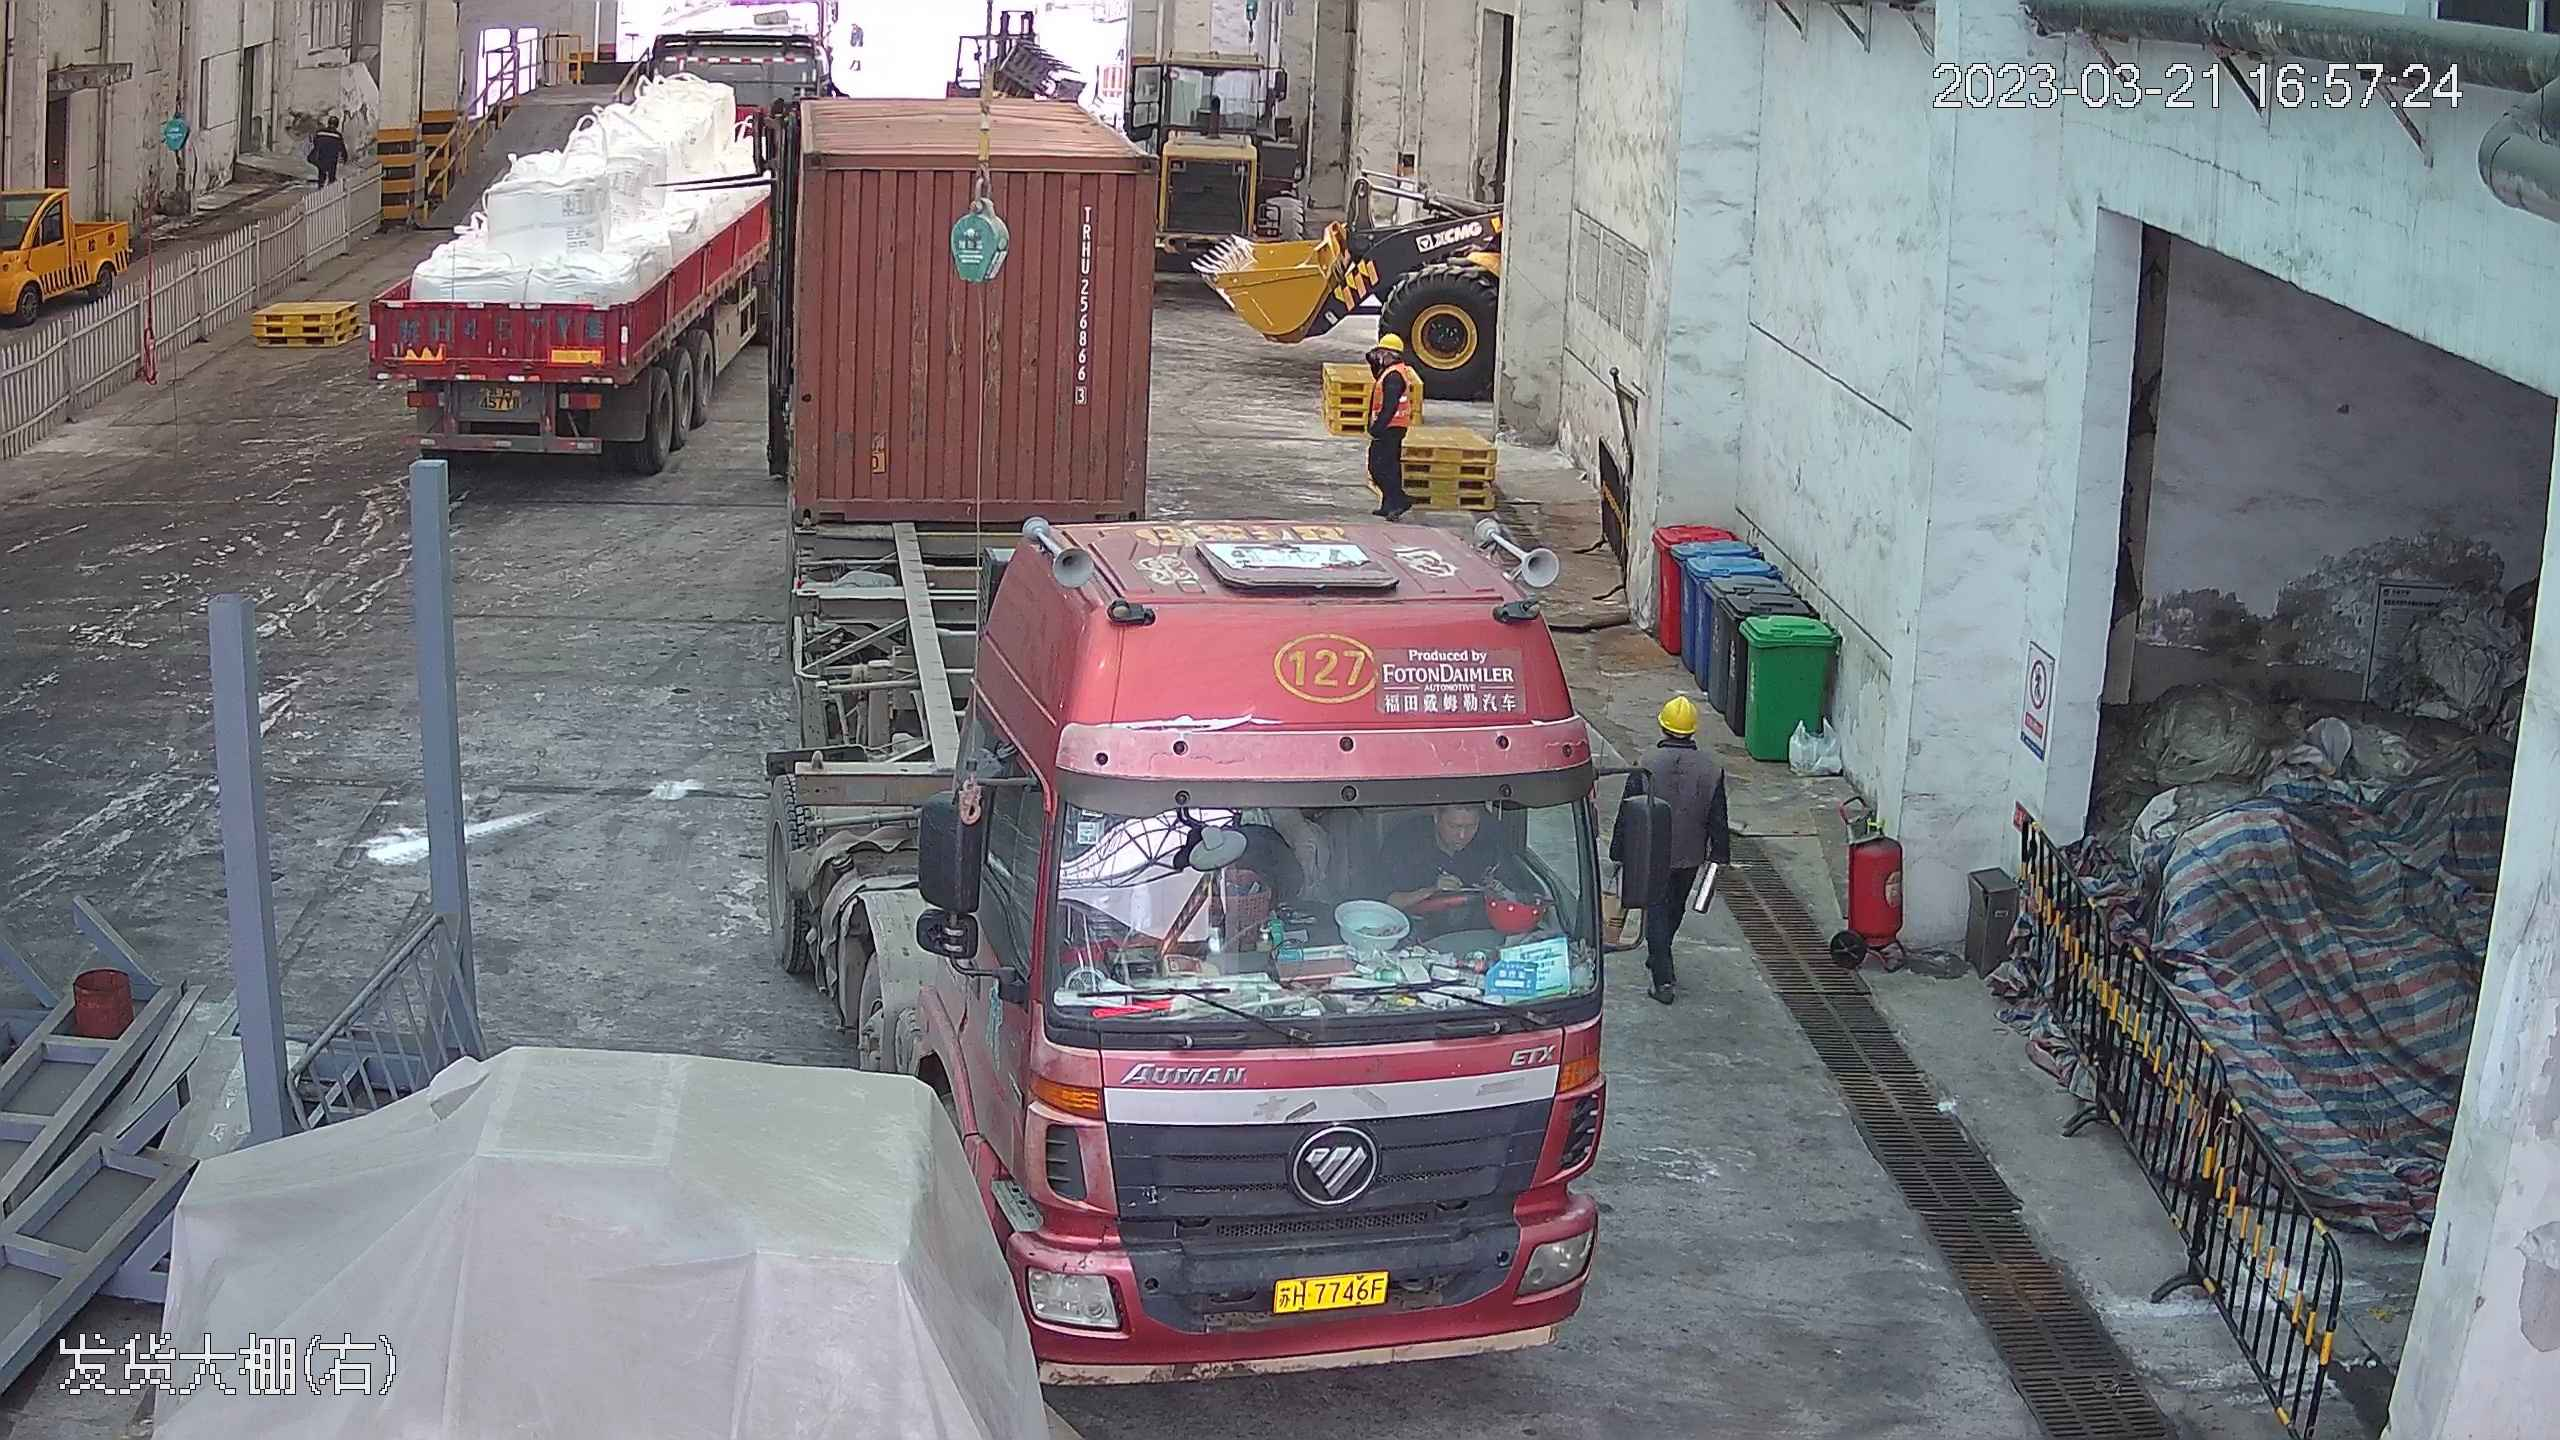head: (1627, 692, 1720, 798), (1367, 328, 1417, 394), (314, 114, 344, 148)
helmet: (1368, 327, 1416, 391), (1658, 693, 1701, 733), (1375, 328, 1404, 352)
people: (1616, 687, 1726, 1007), (1355, 329, 1418, 513), (305, 111, 345, 194)
truck: (806, 45, 1646, 1406), (366, 14, 795, 469)
